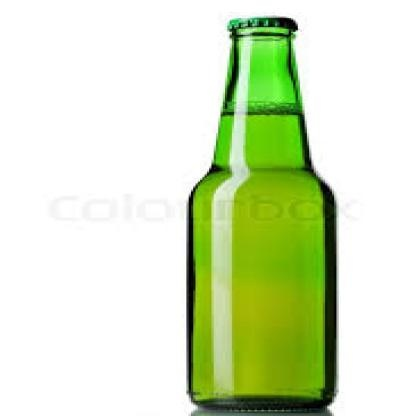trash: (188, 17, 335, 408)
